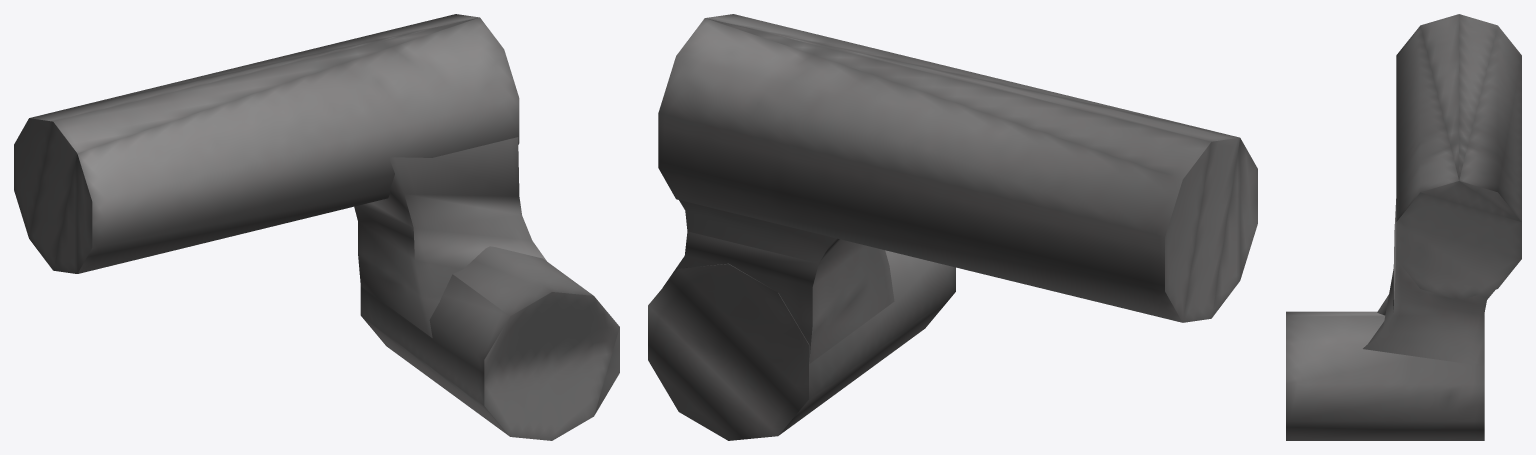
The model's file is r_lglut.dae.
3 renders of one model, left to right at view 1: azimuth 30°, elevation 25°; view 2: azimuth 150°, elevation 25°; view 3: azimuth 270°, elevation 25°, orthographic. The views are drawn at different scales.
Parts seen in each view (by area): view 1: p34926_2, p34890_2, p34834_2, p34874_2; view 2: p34926_2, p34890_2, p34834_2, p34874_2; view 3: p34926_2, p34890_2, p34874_2, p34834_2.
Boxes of the visible parts, x1,y1,x2,y2 form: p34926_2: [29, 14, 519, 273]; p34890_2: [360, 246, 619, 440]; p34834_2: [354, 137, 546, 337]; p34874_2: [14, 118, 92, 273]; p34926_2: [658, 14, 1239, 322]; p34890_2: [648, 250, 955, 440]; p34834_2: [663, 200, 894, 363]; p34874_2: [1165, 137, 1257, 322]; p34926_2: [1396, 14, 1521, 221]; p34890_2: [1286, 311, 1484, 440]; p34874_2: [1396, 181, 1521, 300]; p34834_2: [1363, 199, 1494, 365].
Bounding box in the file's own units: 0.129 × 0.0716 × 0.0902.
